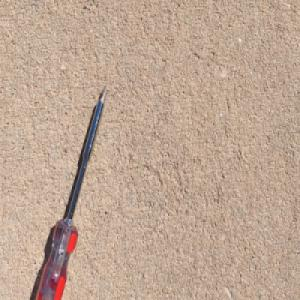Screwdriver: (32, 80, 110, 300)
